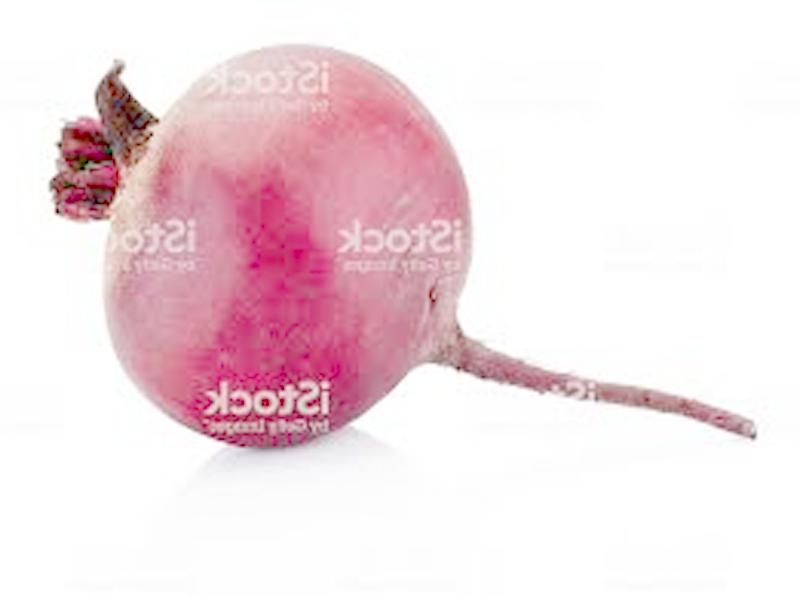Beet: (51, 47, 753, 448)
